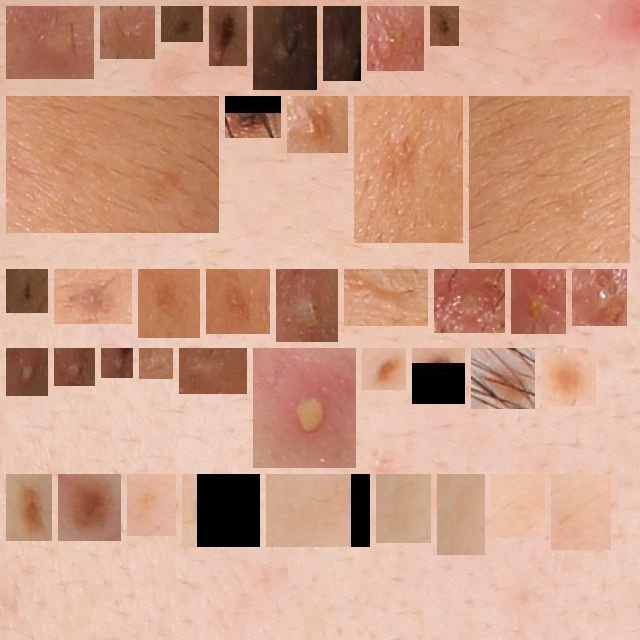hypertrophic_scar: (352, 277, 420, 318), (187, 356, 239, 386), (147, 356, 165, 371)
melasma: (14, 104, 211, 225), (477, 104, 622, 255), (362, 104, 455, 235), (274, 482, 362, 539), (190, 482, 252, 539), (559, 482, 603, 542), (146, 277, 192, 330), (214, 277, 262, 326), (445, 482, 477, 547), (384, 482, 423, 535), (499, 482, 537, 529), (135, 482, 168, 528)
nevus: (66, 482, 113, 533), (479, 356, 527, 401), (295, 104, 340, 145), (549, 356, 588, 398), (14, 482, 44, 533), (420, 356, 457, 396), (233, 104, 273, 130), (217, 14, 239, 58), (14, 277, 40, 305), (370, 356, 398, 382), (169, 14, 195, 34), (438, 14, 451, 38)
pustule: (261, 356, 348, 460), (14, 14, 86, 71), (261, 14, 309, 82), (442, 277, 497, 325), (284, 277, 330, 334), (375, 14, 416, 63), (519, 277, 558, 326), (580, 277, 619, 318), (108, 14, 147, 51), (331, 14, 353, 73), (14, 356, 40, 388), (62, 356, 87, 378), (109, 356, 125, 370)
